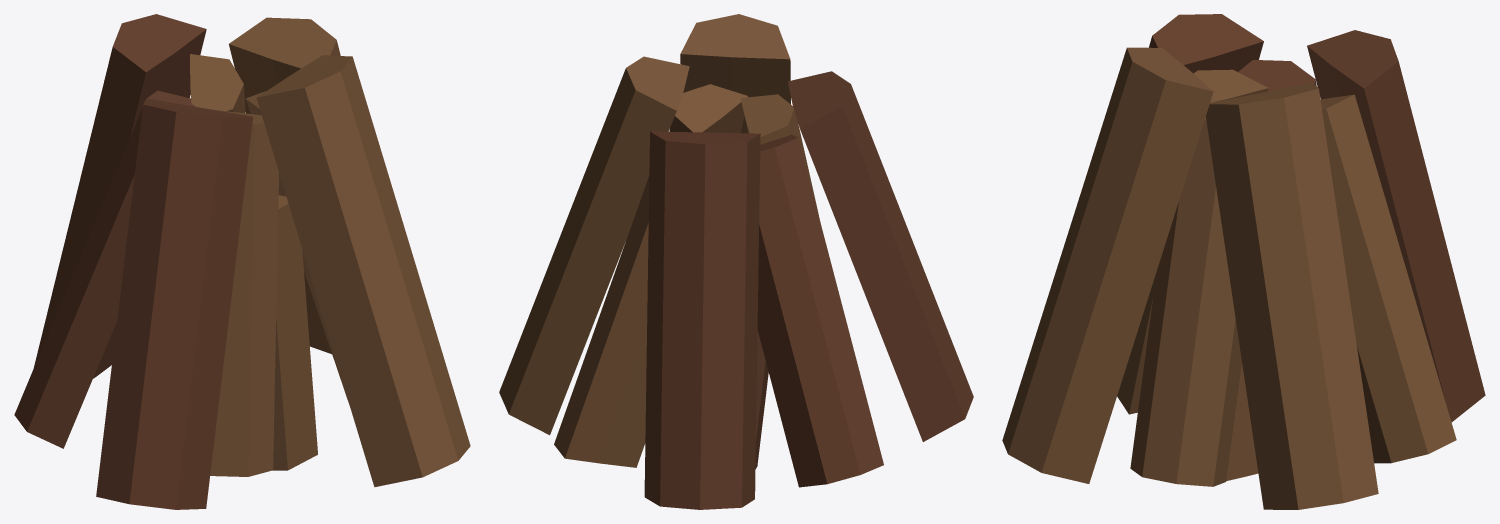
File: bonfirelogs.fbx
3 views of the same model, side by side, from view 1: azimuth 30°, elevation 25°; view 2: azimuth 150°, elevation 25°; view 3: azimuth 270°, elevation 25° (orthographic). The views are drawn at different scales.
Visible parts, largest first — view 1: BonfireLogs; view 2: BonfireLogs; view 3: BonfireLogs.
Boxes of the visible parts, x1=… form: BonfireLogs: x1=14, y1=14, x2=470, y2=509; BonfireLogs: x1=499, y1=14, x2=973, y2=509; BonfireLogs: x1=1002, y1=14, x2=1485, y2=509.
Bounding box in the file's own units: 0.4341 × 0.4382 × 0.4522.
1 material, 1 textured.
